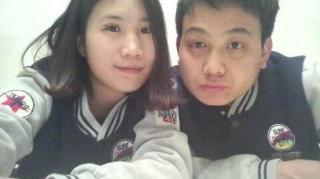long sleeve top: (0, 56, 192, 179), (166, 51, 319, 179)
